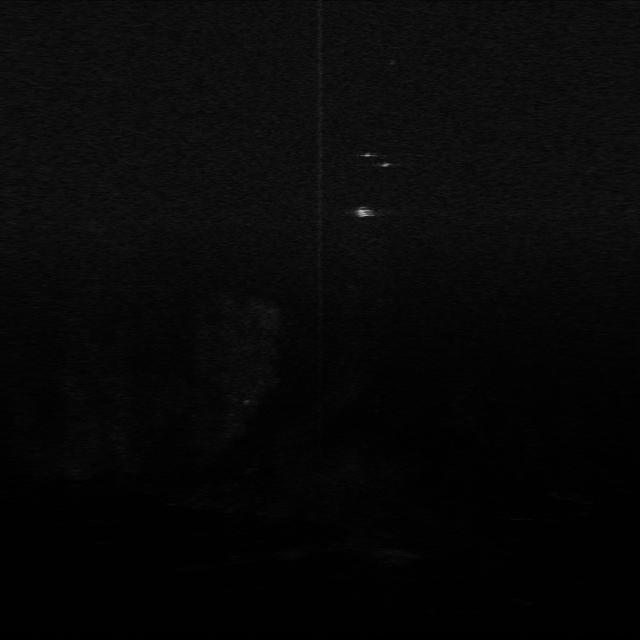rov: (350, 202, 380, 222)
